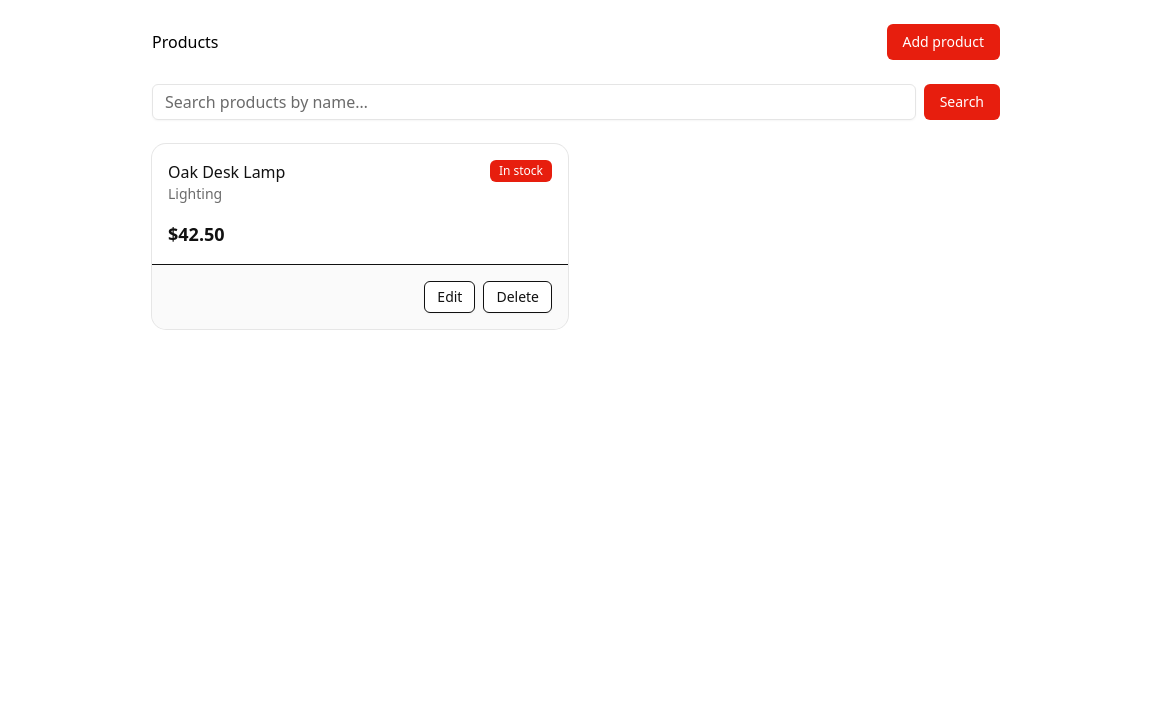
Scenario: ProductsPage › opens the Add product dialog and creates a product through the real action
The width and height of the screenshot is (1152, 720).
Expected: the text "Oak Desk Lamp" is shown, [168,160,285,184]
Step 1. Click the button "Add product" → (943, 42), box [887,24,1000,60]
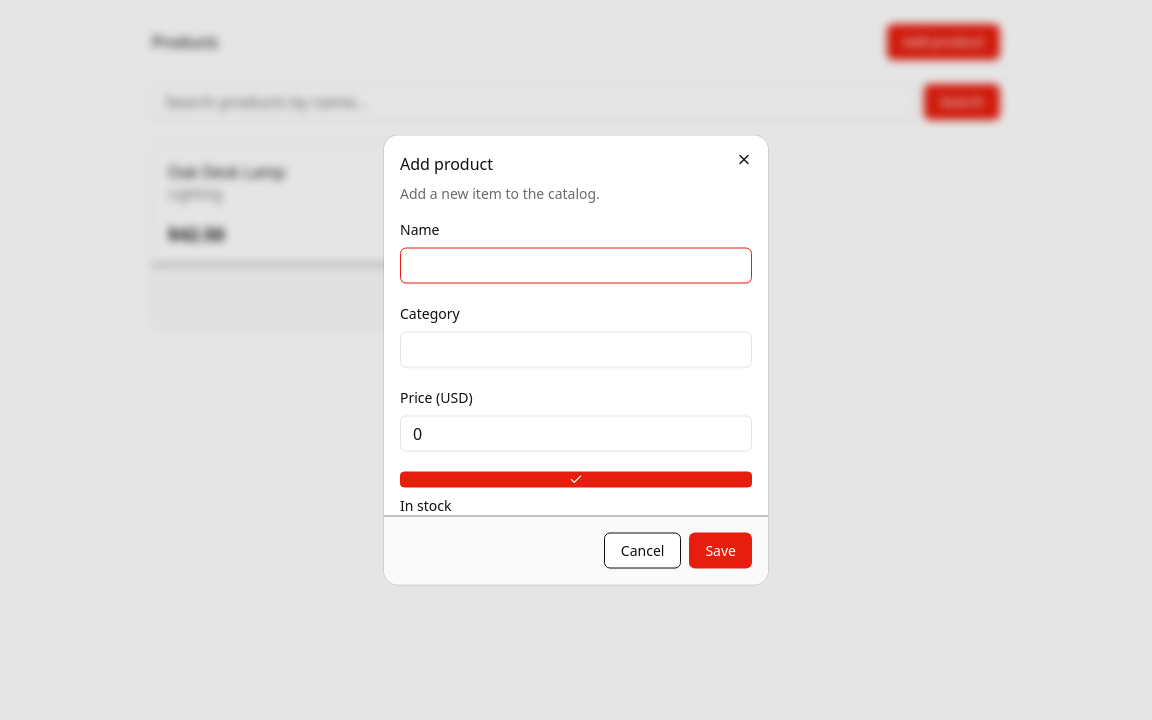
Step 2. Type "Standing Desk" into the field labelled "Name" → (576, 266), box [400,248,752,284]
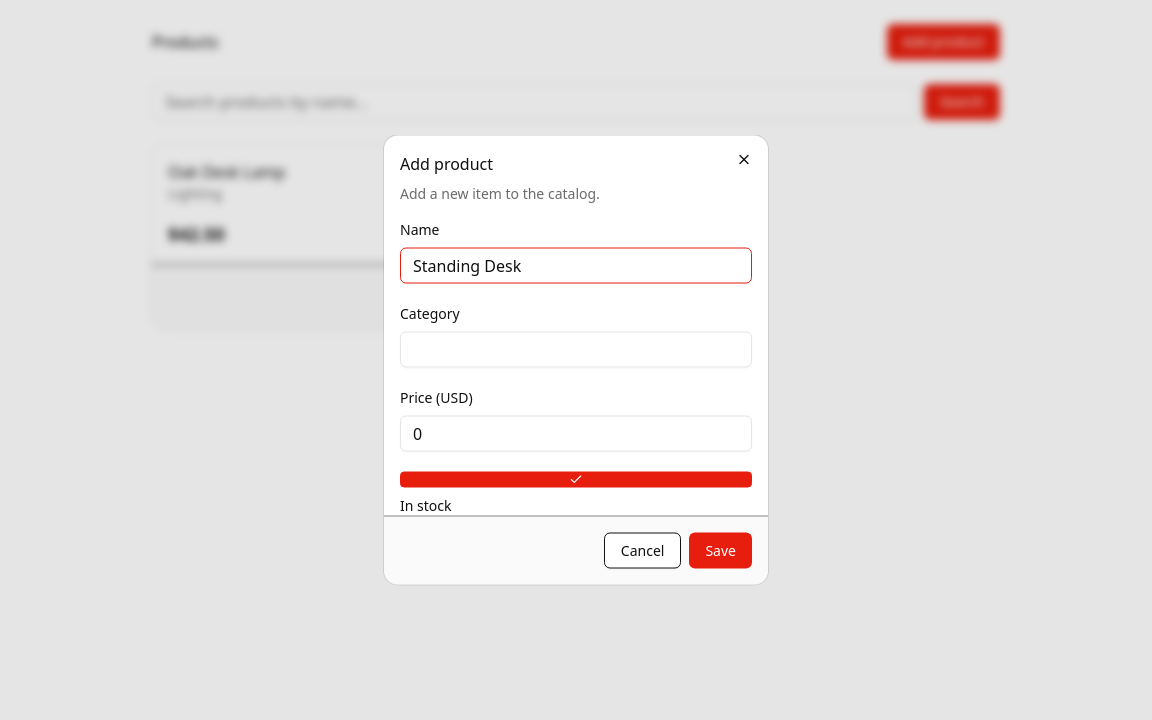
Step 3. Type "Furniture" into the field labelled "Category" → (576, 350), box [400,332,752,368]
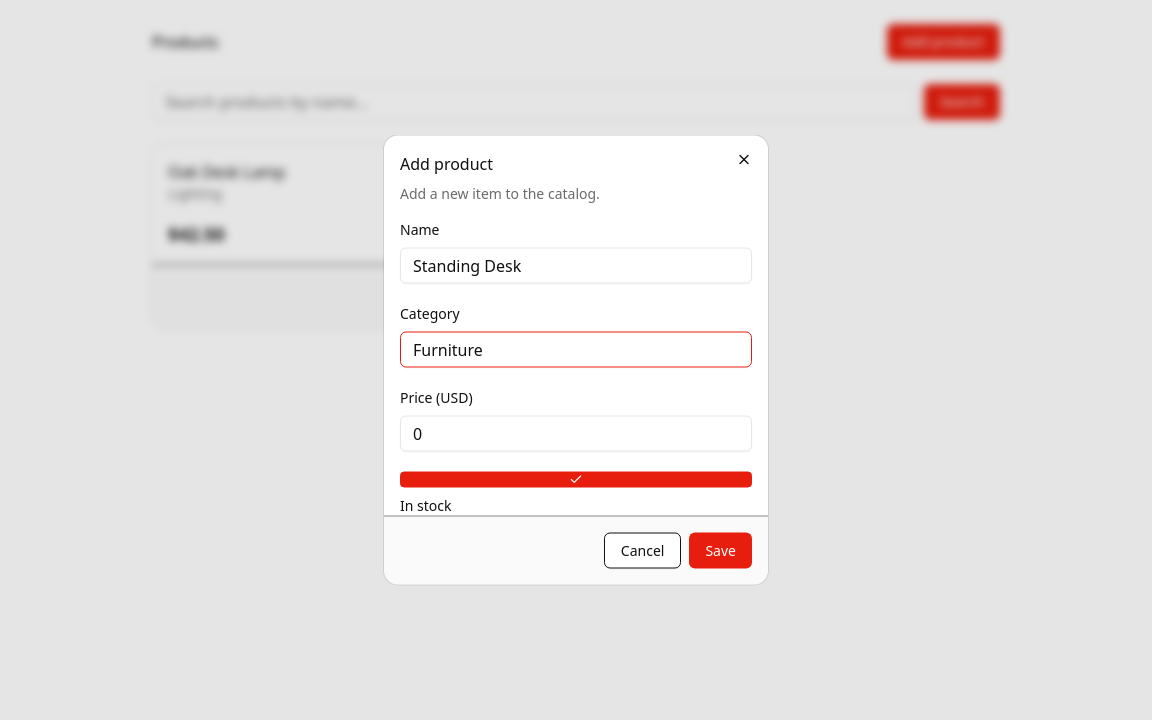
Step 4. Replace the text in the number field labelled "Price (USD)" with "99" → (576, 434), box [400,416,752,452]
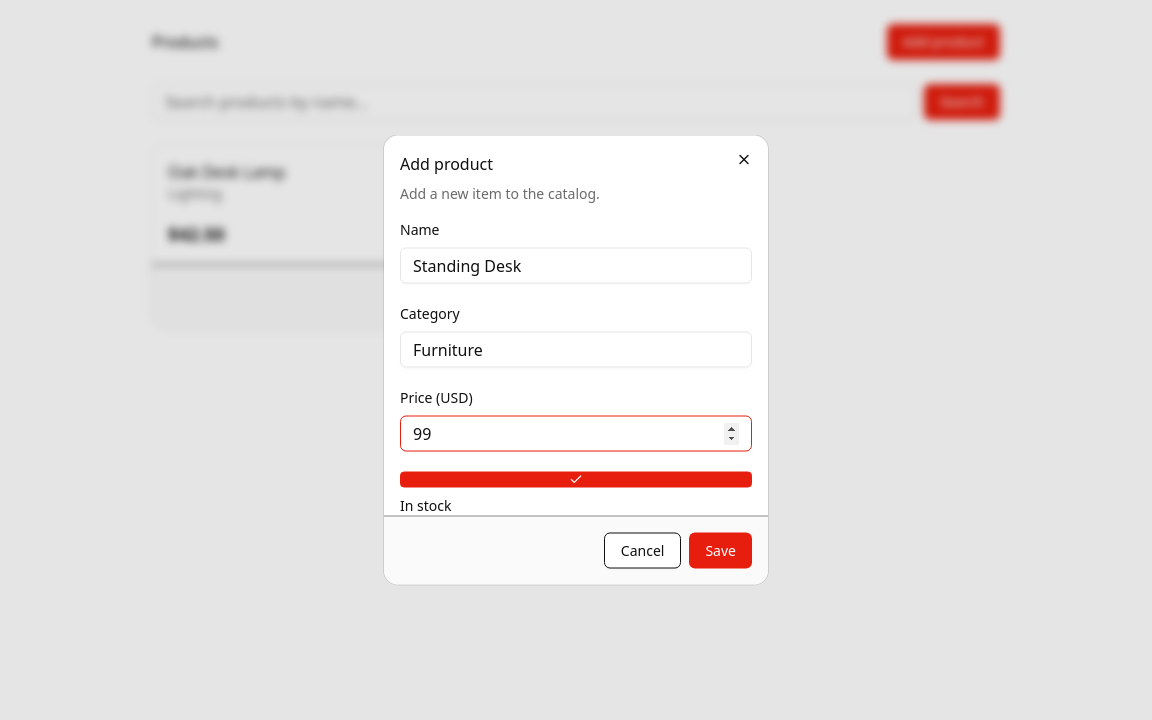
Step 5. Click the button "Save" → (721, 550), box [689,532,752,568]
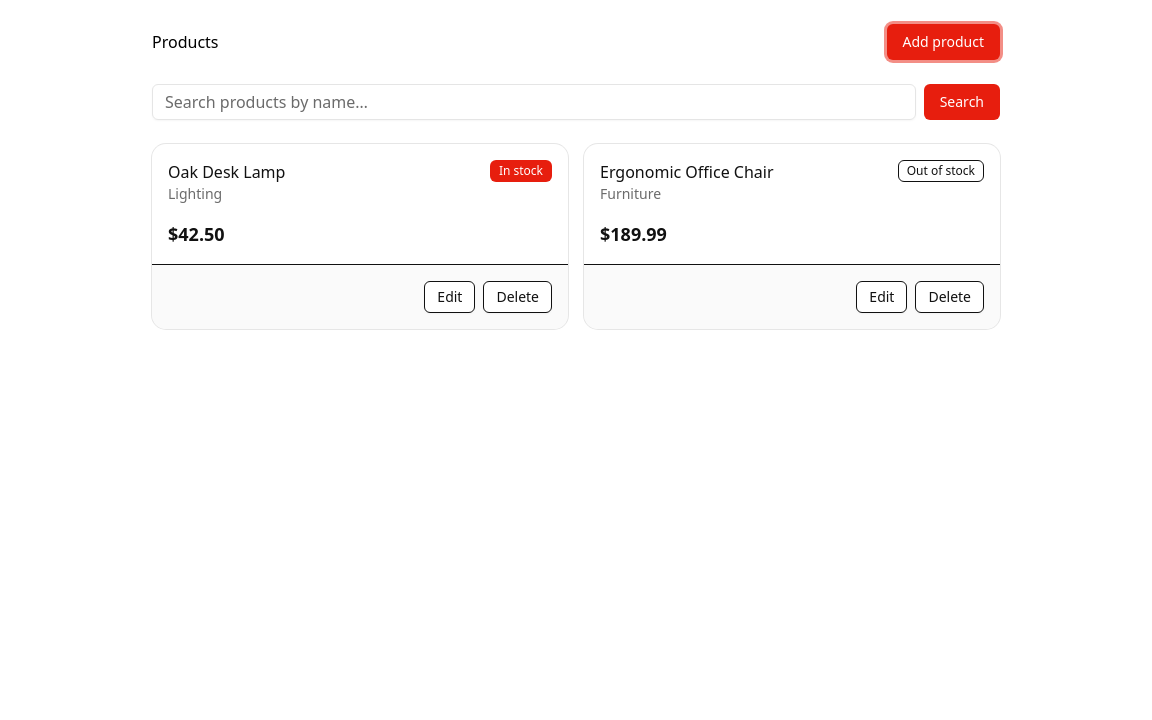
Expected: the dialog is gone
